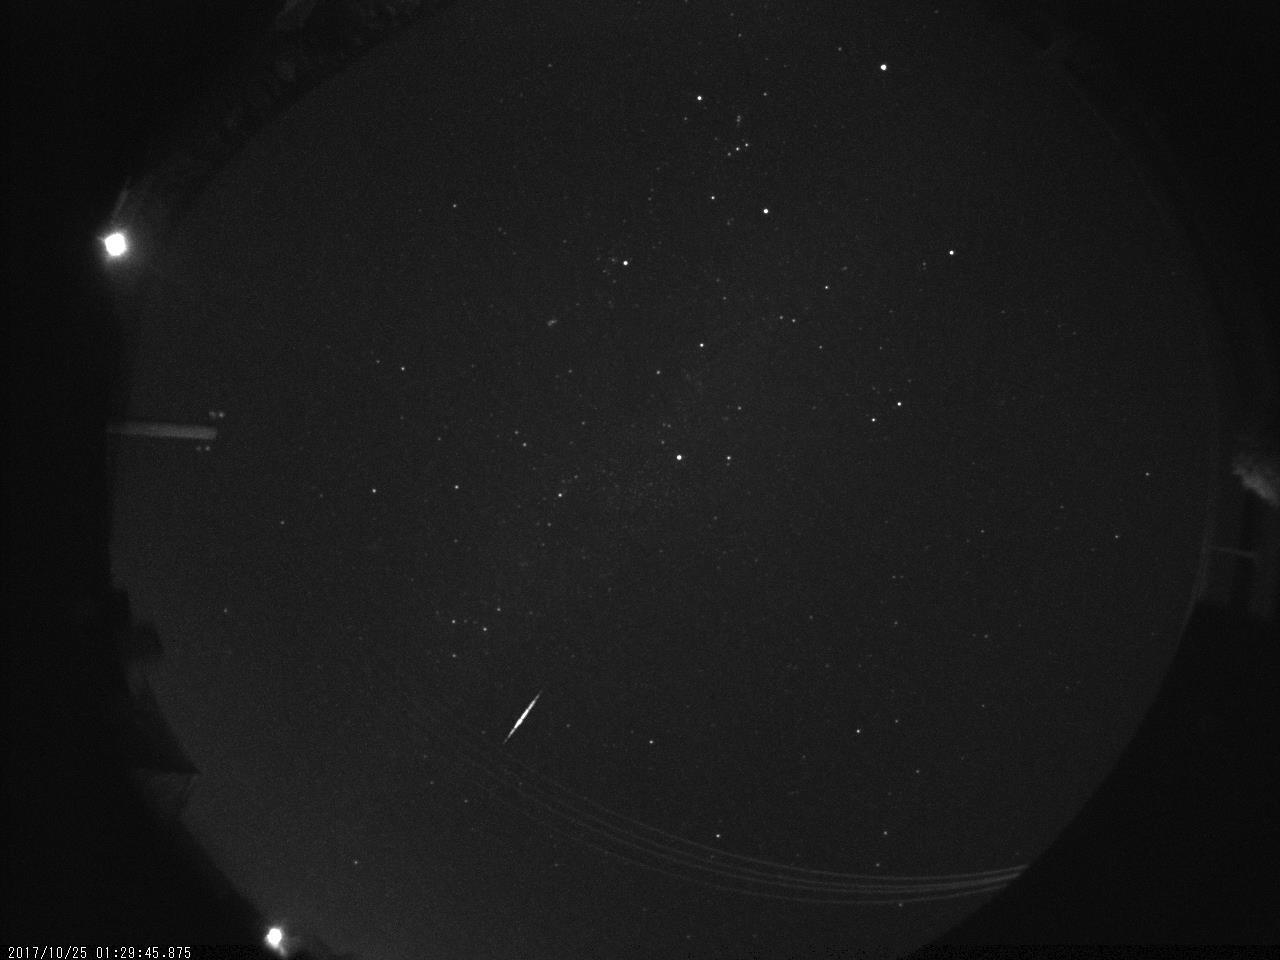Meteor: (499, 688, 545, 747)
